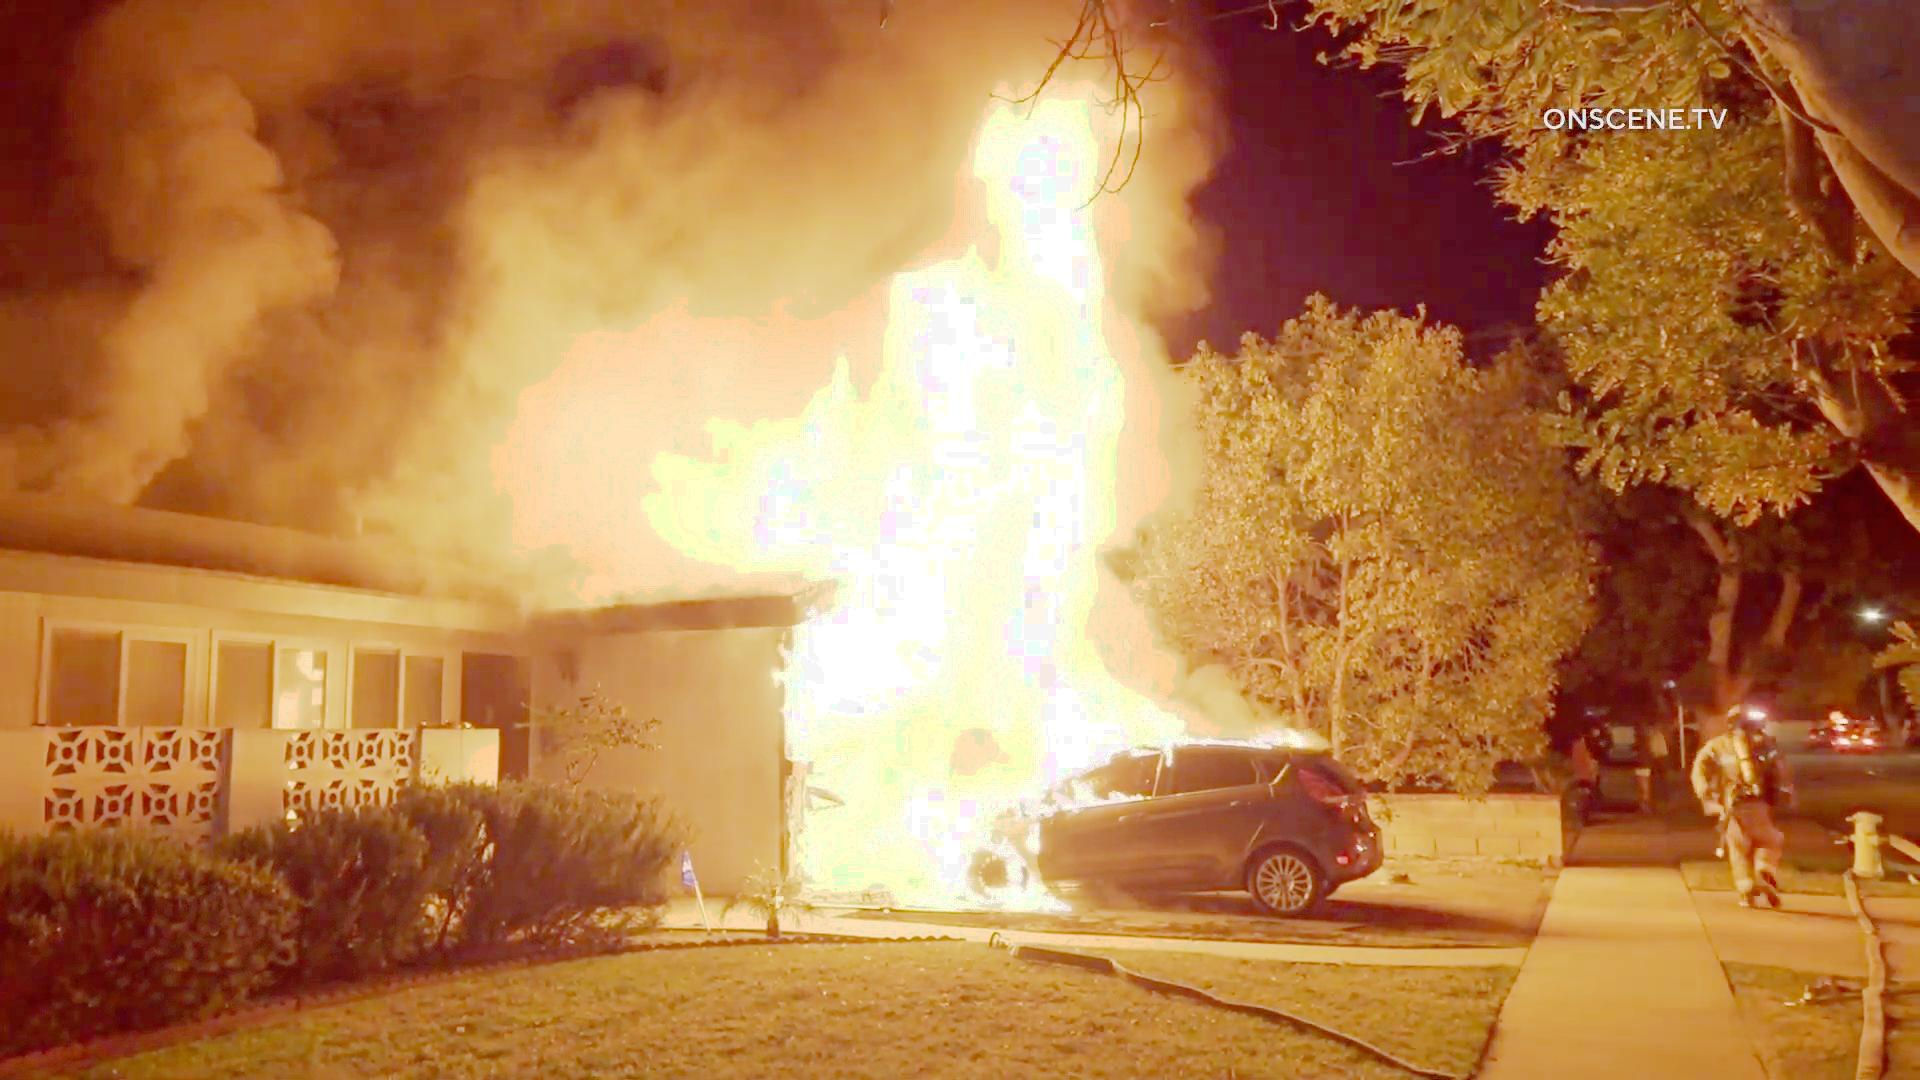fire: (886, 96, 1167, 731), (646, 348, 1160, 583), (823, 596, 1055, 906), (1135, 663, 1358, 753)
smoke: (3, 3, 633, 505), (0, 0, 873, 334), (0, 0, 873, 193)
